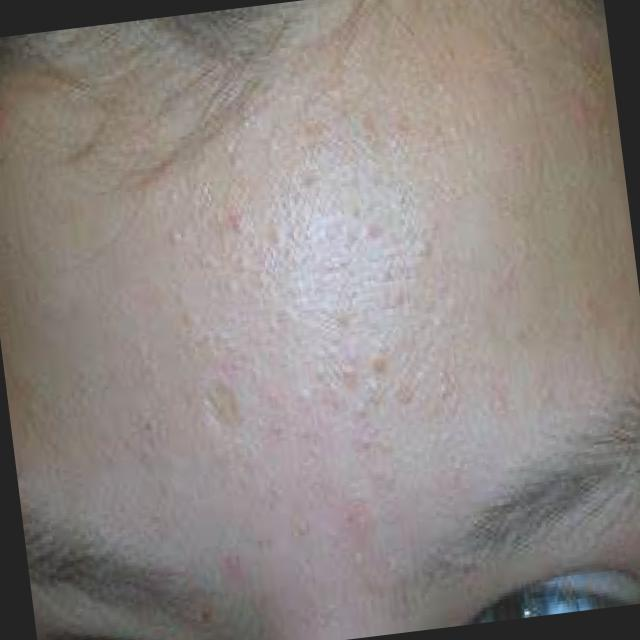fungal: (201, 147, 480, 491)
